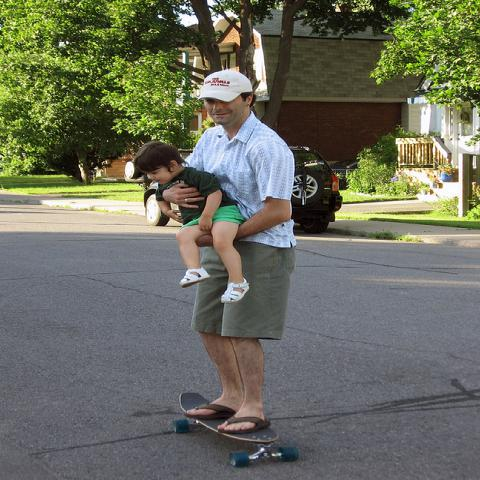car: (289, 146, 343, 233)
